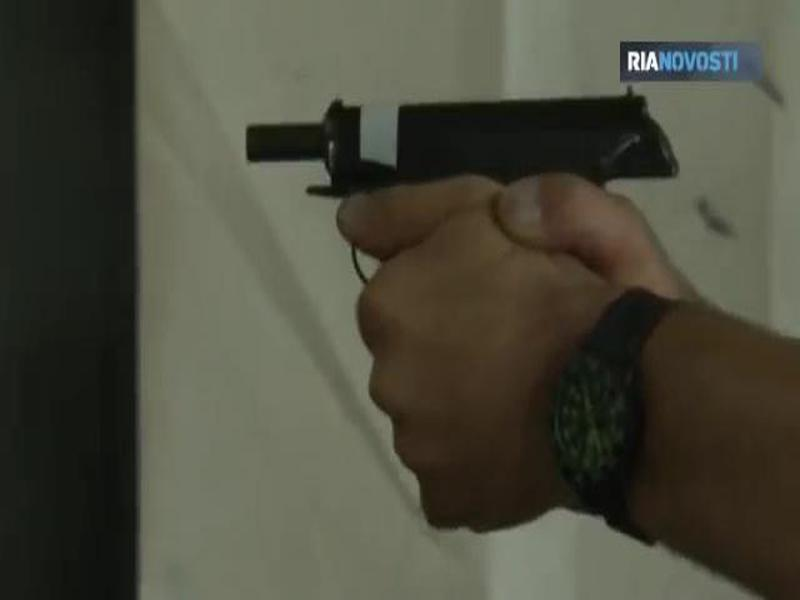Pistola: (236, 68, 670, 351)
